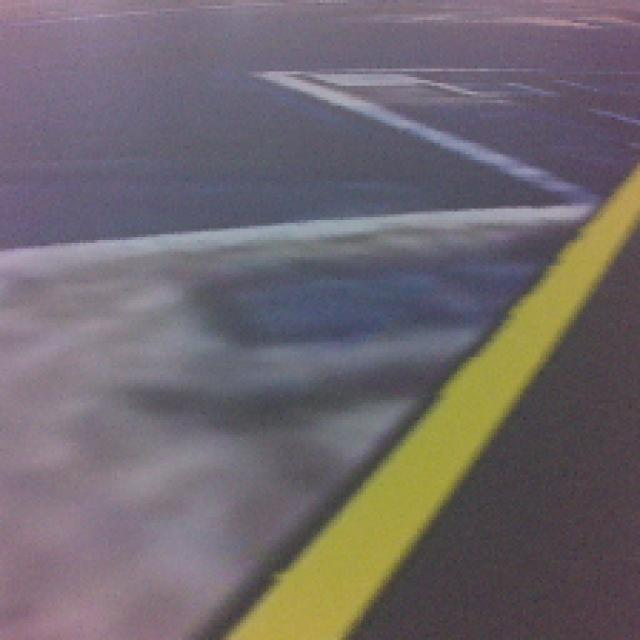Guard rail: (231, 164, 640, 640)
